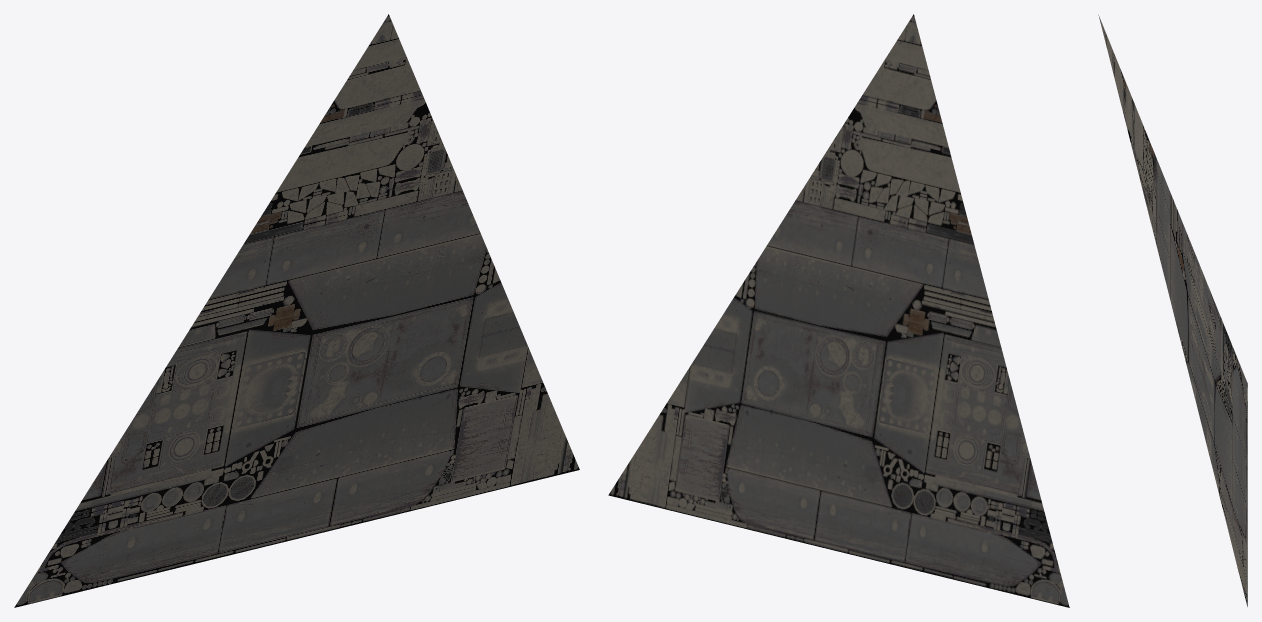
The model's file is Turret_01.glb.
3 renders of one model, left to right at view 1: azimuth 30°, elevation 25°; view 2: azimuth 150°, elevation 25°; view 3: azimuth 270°, elevation 25°, orthographic. The views are drawn at different scales.
Parts seen in each view (by area): view 1: set_0_group_0; view 2: set_0_group_0; view 3: set_0_group_0.
Part boxes in pixels (<box>): set_0_group_0: <box>14,14,579,607</box>; set_0_group_0: <box>608,14,1069,607</box>; set_0_group_0: <box>1098,15,1247,606</box>.
Bounding box in the file's own units: 0.0985 × 0.0985 × 0.0277.
Materials: 1 (1 with a texture image).
